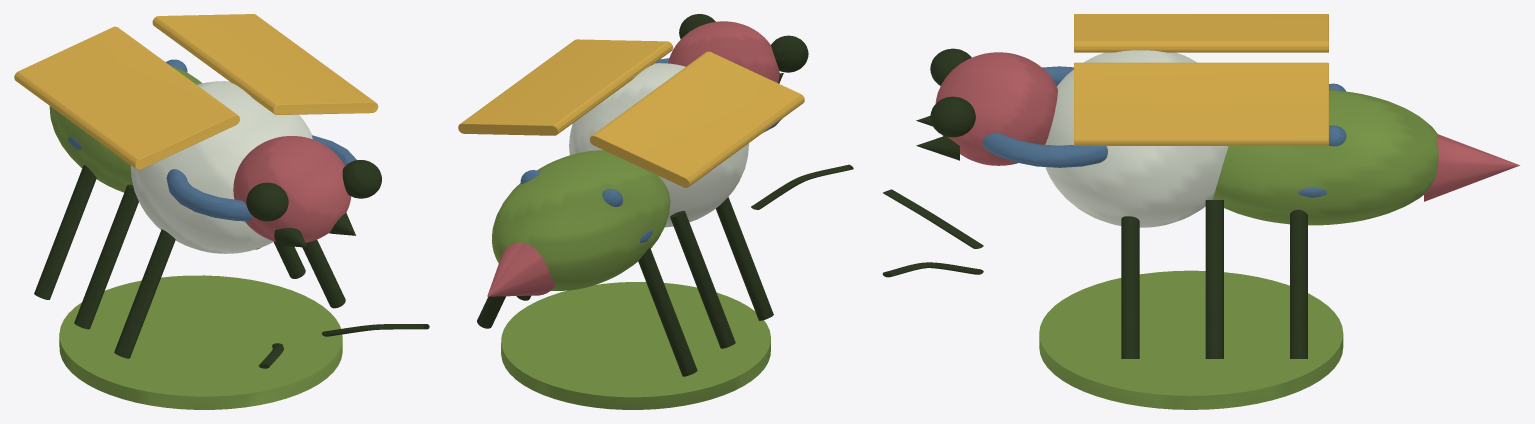
File: 0104_植物图鉴_捕蝇草.glb
3 renders of one model, left to right at view 1: azimuth 30°, elevation 25°; view 2: azimuth 150°, elevation 25°; view 3: azimuth 270°, elevation 25°, orthographic. The views are drawn at different scales.
Parts seen in each view (by area): view 1: card_0104; view 2: card_0104; view 3: card_0104.
Boxes of the visible parts, bbox=[...] form: card_0104: bbox=[14, 14, 429, 409]; card_0104: bbox=[458, 14, 853, 409]; card_0104: bbox=[882, 14, 1519, 409].
Bounding box in the file's own units: 0.9102 × 1 × 1.96.
